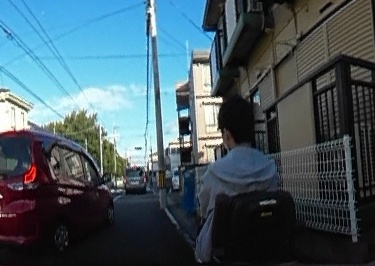person: (192, 95, 286, 266)
